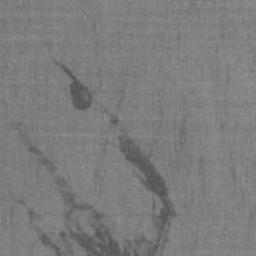Water spot: (12, 59, 182, 256)
